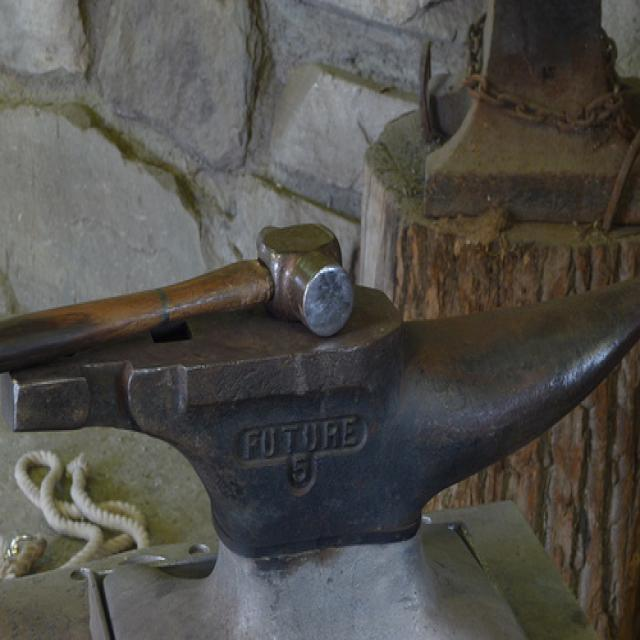hammer: (0, 213, 361, 348)
